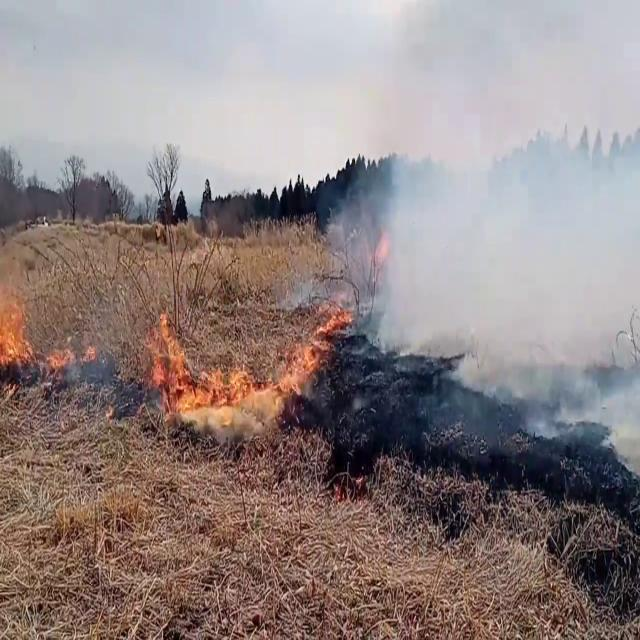Fire: (143, 310, 240, 430), (0, 250, 33, 374)
Smoke: (343, 4, 640, 462)
